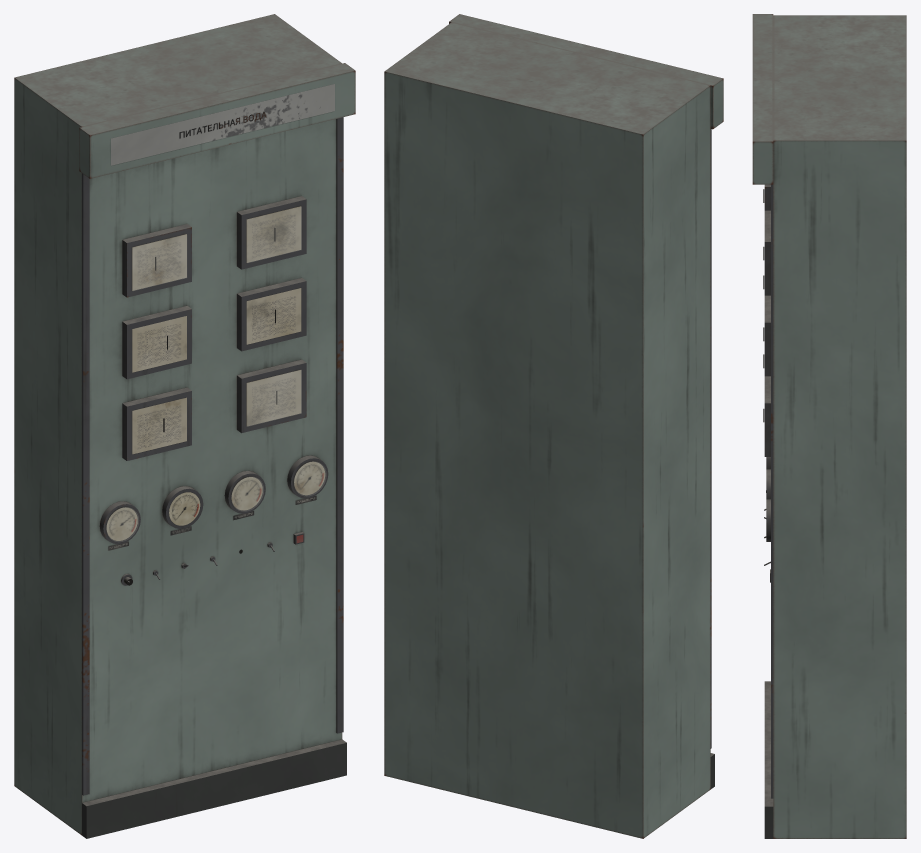
Rendered from SM_WallPanel_Recorders.fbx.
3 renders of one model, left to right at view 1: azimuth 30°, elevation 25°; view 2: azimuth 150°, elevation 25°; view 3: azimuth 270°, elevation 25°, orthographic.
Visible parts, largest first — view 1: SM_WallPanel_Recorders; view 2: SM_WallPanel_Recorders; view 3: SM_WallPanel_Recorders.
Boxes of the visible parts, x1=… form: SM_WallPanel_Recorders: x1=14, y1=14, x2=355, y2=838; SM_WallPanel_Recorders: x1=384, y1=14, x2=723, y2=838; SM_WallPanel_Recorders: x1=752, y1=14, x2=906, y2=838.
Size of the model in its own units: 1.02 by 2.6 by 0.5216.
Materials: 2 (1 with a texture image).
